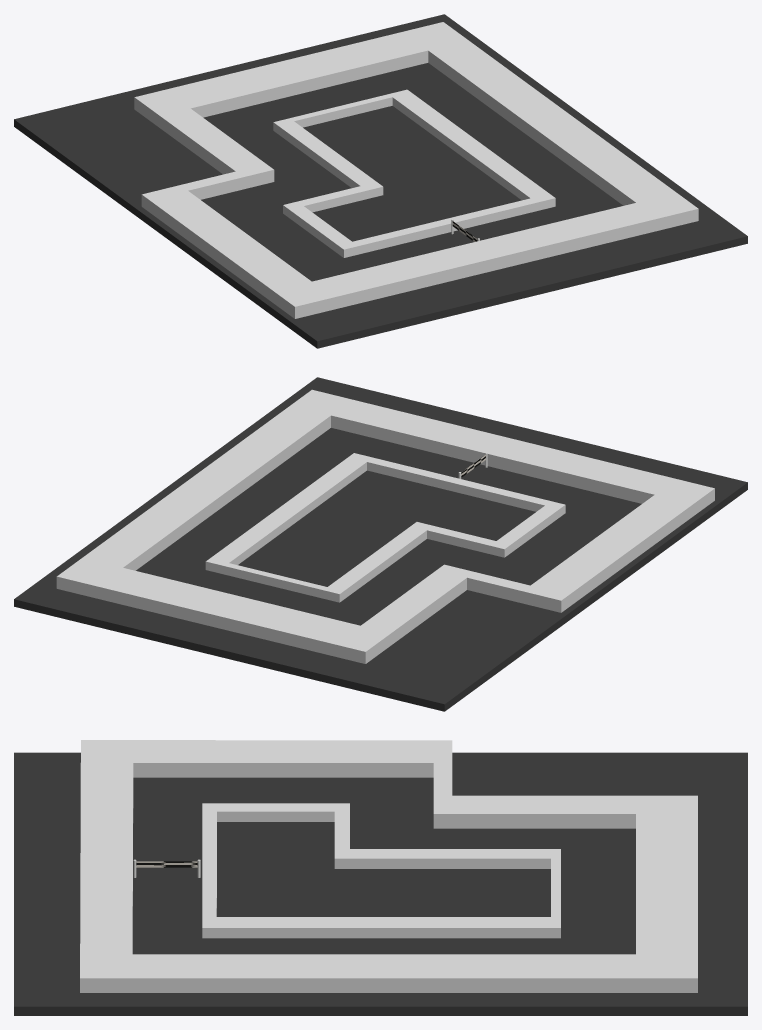
File: ContainerTerminal.fbx
3 views of the same model, one above another, from view 1: azimuth 30°, elevation 25°; view 2: azimuth 150°, elevation 25°; view 3: azimuth 270°, elevation 25° (orthographic). The views are drawn at different scales.
Visible parts, largest first — view 1: 立方体.001, Plane.002, Plane.003; view 2: 立方体.001, Plane.002, Plane.003; view 3: 立方体.001, Plane.002, Plane.003.
Boxes of the visible parts, x1,y1,x2,y2 form: 立方体.001: [14, 14, 747, 348]; Plane.002: [134, 22, 698, 318]; Plane.003: [273, 89, 555, 257]; 立方体.001: [14, 377, 747, 711]; Plane.002: [56, 389, 714, 663]; Plane.003: [205, 453, 565, 602]; 立方体.001: [14, 752, 747, 1015]; Plane.002: [80, 740, 697, 992]; Plane.003: [202, 803, 560, 938].
Size of the model in its own units: 12055 by 586 by 14706.
5 materials, 3 textured.
